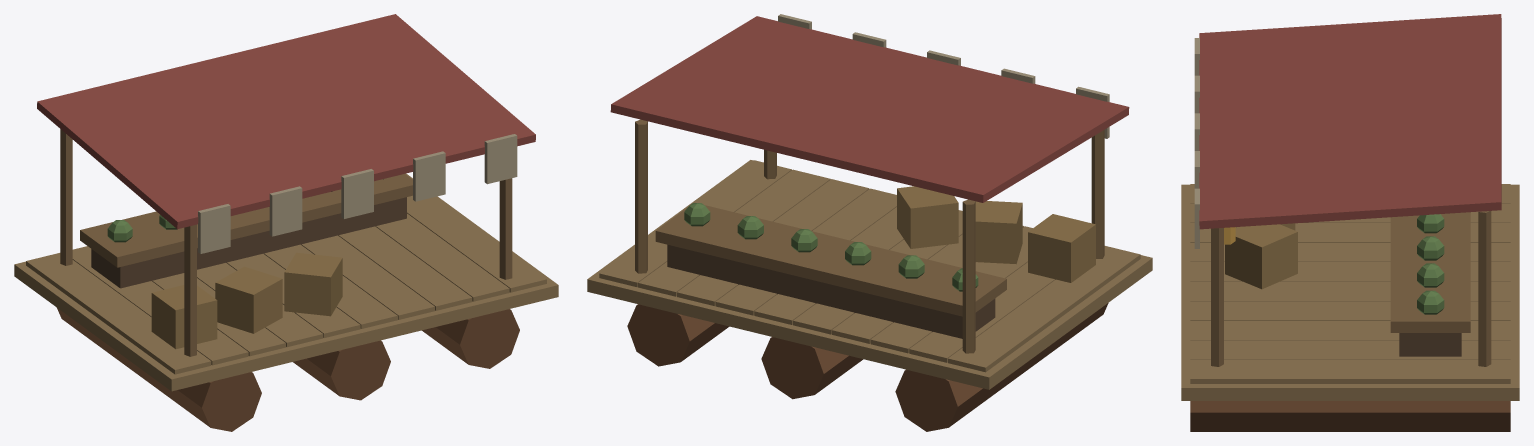
Rendered from S_FloatMarket.glb.
3 views of the same model, side by side, from view 1: azimuth 30°, elevation 25°; view 2: azimuth 150°, elevation 25°; view 3: azimuth 270°, elevation 25° (orthographic). The views are drawn at different scales.
Parts seen in each view (by area): view 1: S_FloatMarket; view 2: S_FloatMarket; view 3: S_FloatMarket.
Boxes of the visible parts, x1=… form: S_FloatMarket: x1=14, y1=14, x2=558, y2=431; S_FloatMarket: x1=587, y1=14, x2=1152, y2=431; S_FloatMarket: x1=1181, y1=14, x2=1519, y2=431.
Size of the model in its own units: 5.4 by 3.16 by 3.8.
